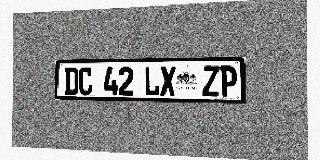2: (119, 67, 133, 95)
4: (104, 67, 118, 95)
C: (79, 67, 93, 95)
D: (65, 67, 78, 95)
L: (144, 66, 160, 96)
P: (220, 65, 237, 97)
X: (160, 66, 176, 96)
Z: (202, 66, 219, 96)
